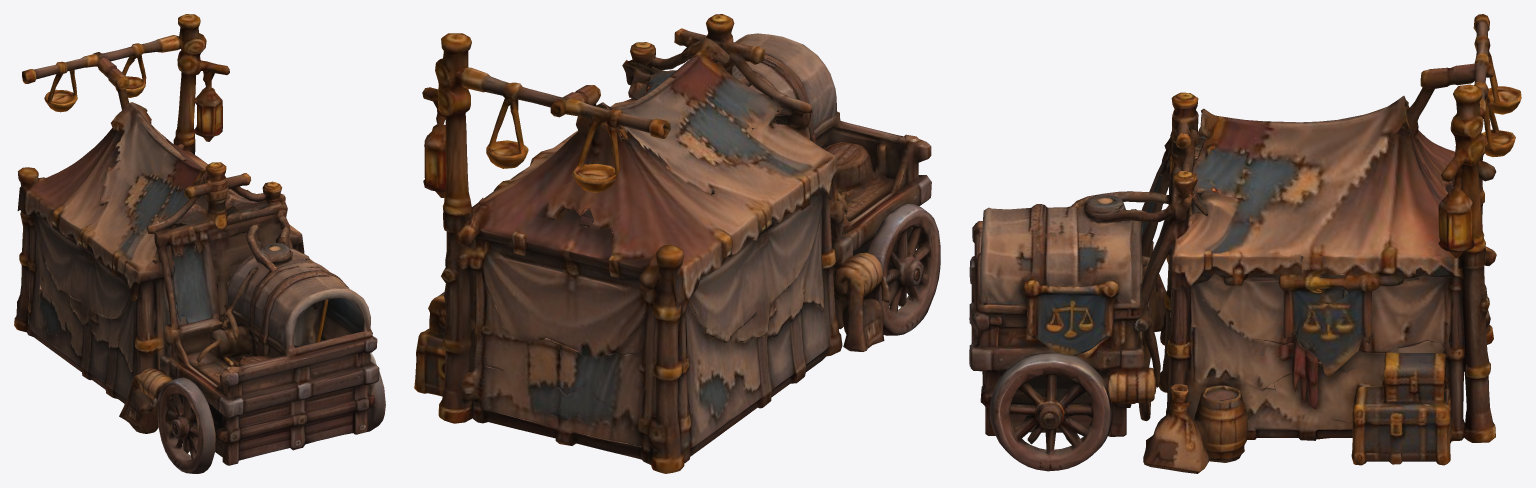
Rendered from lm_trader_stall.glb.
3 renders of one model, left to right at view 1: azimuth 30°, elevation 25°; view 2: azimuth 150°, elevation 25°; view 3: azimuth 270°, elevation 25°, orthographic. The views are drawn at different scales.
Parts seen in each view (by area): view 1: tripo_node_c01a4df8-4bfc-4c13-90c5-97b09de56947; view 2: tripo_node_c01a4df8-4bfc-4c13-90c5-97b09de56947; view 3: tripo_node_c01a4df8-4bfc-4c13-90c5-97b09de56947.
Part boxes in pixels (box(x1,y1,x2,y2)): tripo_node_c01a4df8-4bfc-4c13-90c5-97b09de56947: box(14, 14, 385, 473); tripo_node_c01a4df8-4bfc-4c13-90c5-97b09de56947: box(414, 14, 940, 473); tripo_node_c01a4df8-4bfc-4c13-90c5-97b09de56947: box(969, 14, 1521, 473).
Size of the model in its own units: 4.08 by 4.91 by 6.5.
Materials: 1 (1 with a texture image).
